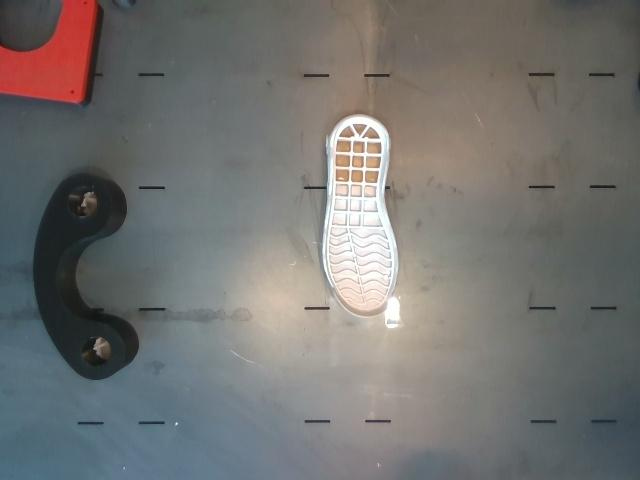shoes: (324, 116, 398, 317)
